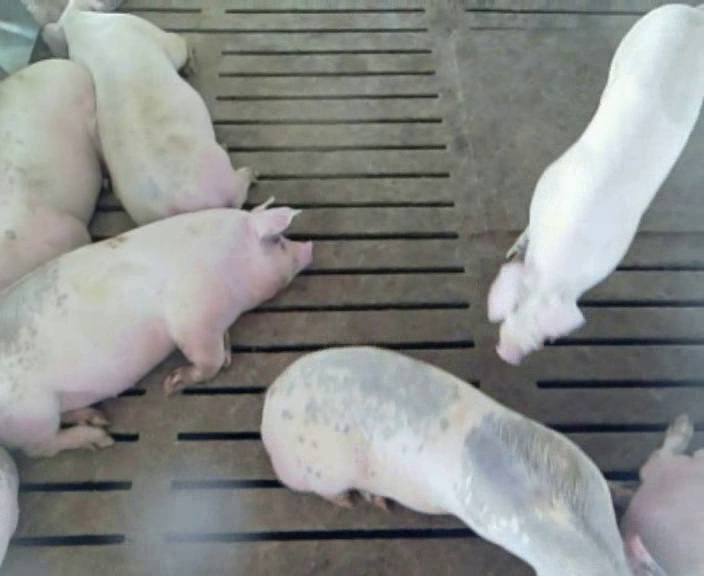pig: (263, 348, 667, 575), (0, 196, 310, 455), (488, 5, 703, 363), (42, 1, 251, 223), (0, 60, 100, 289), (622, 414, 703, 574)
